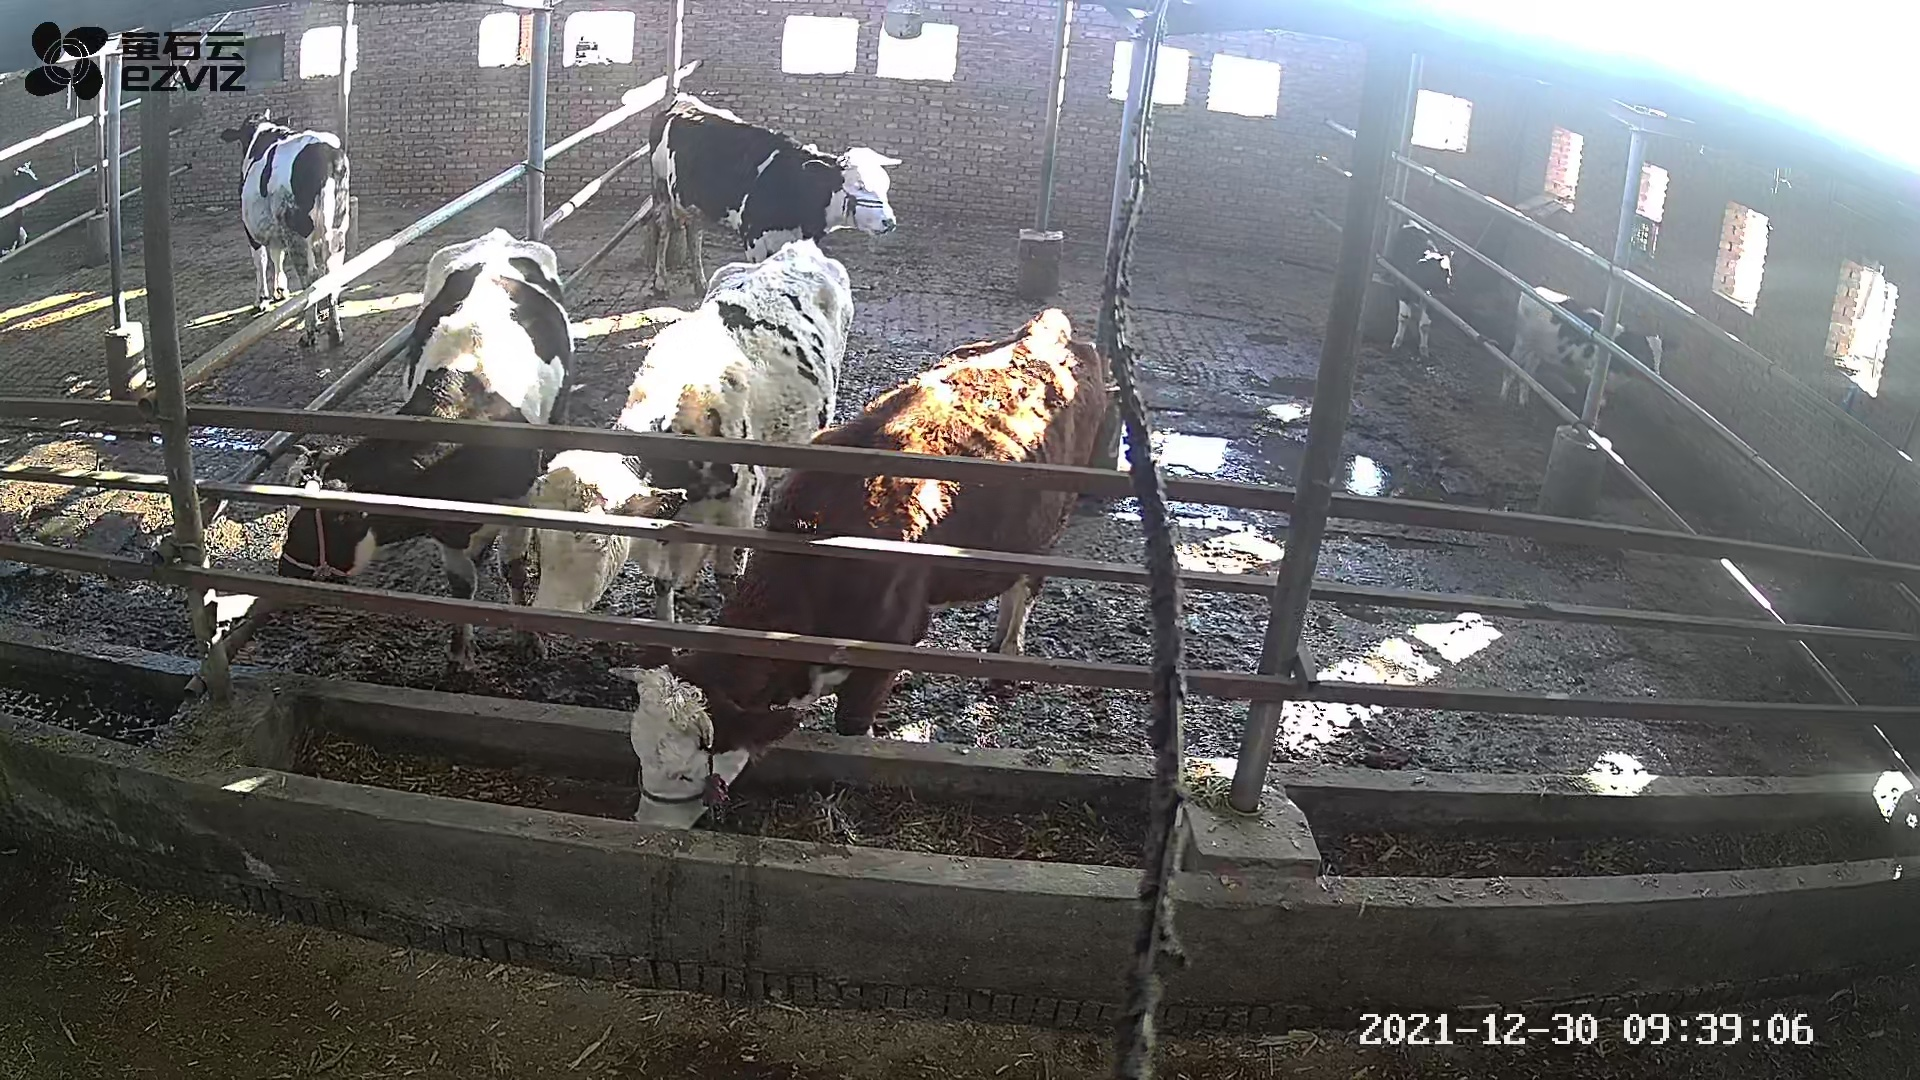cow: (607, 305, 1108, 831), (274, 225, 574, 692), (526, 237, 853, 625), (646, 90, 901, 301)
